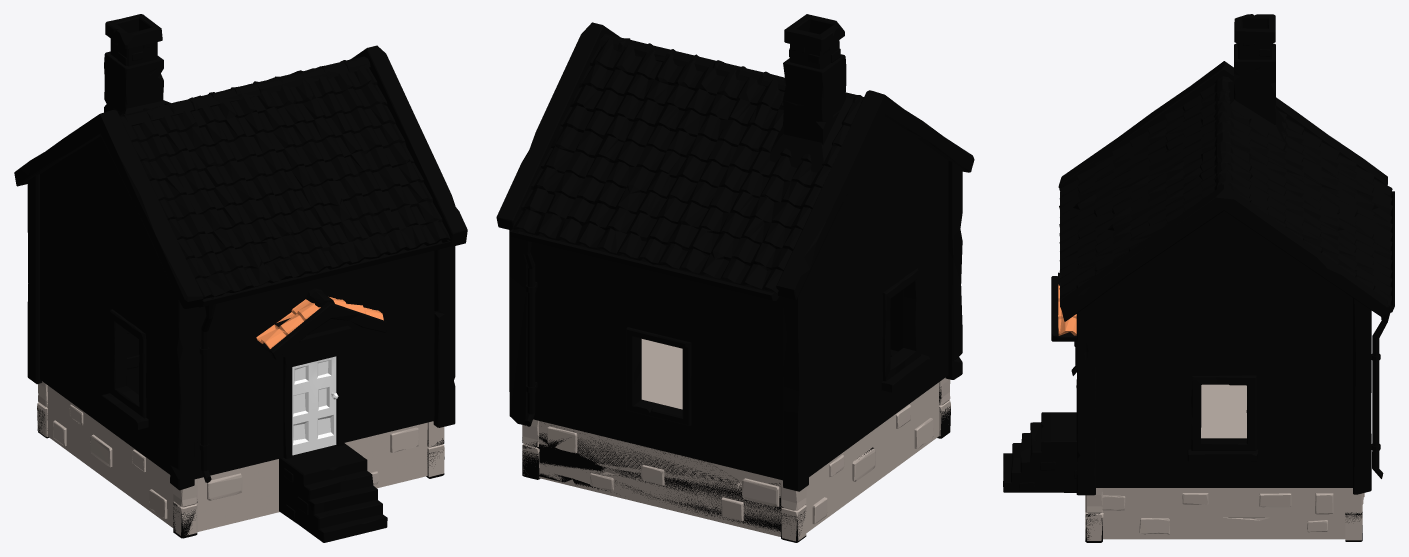
Rendered from SM_House_01.fbx.
3 renders of one model, left to right at view 1: azimuth 30°, elevation 25°; view 2: azimuth 150°, elevation 25°; view 3: azimuth 270°, elevation 25°, orthographic. The views are drawn at different scales.
Parts seen in each view (by area): view 1: House, Foundation, Door_01; view 2: House, Foundation; view 3: House, Foundation.
Boxes of the visible parts, x1,y1,x2,y2 form: House: (14,14,467,542); Foundation: (37,381,444,535); Door_01: (292,356,338,455); House: (496,14,974,542); Foundation: (522,339,950,541); House: (1003,14,1394,542); Foundation: (1085,384,1364,540).
Size of what is drawn, in the model's own units: 817 by 1203 by 1022.
